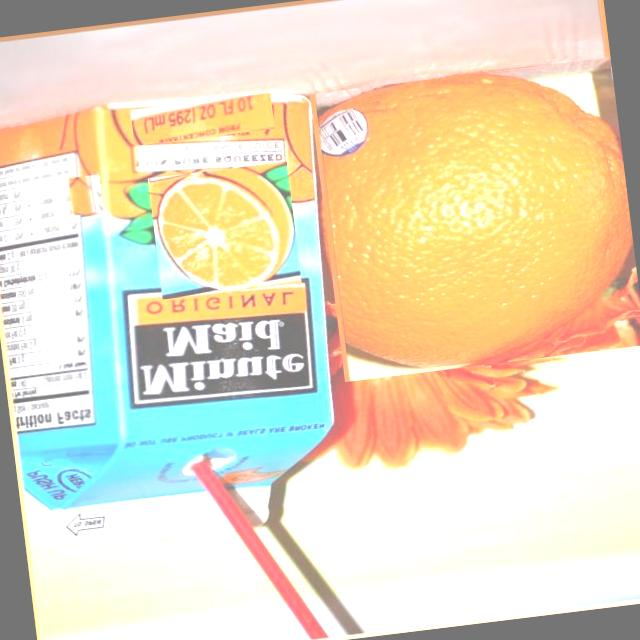Orange: (309, 56, 640, 381), (156, 158, 296, 298)
